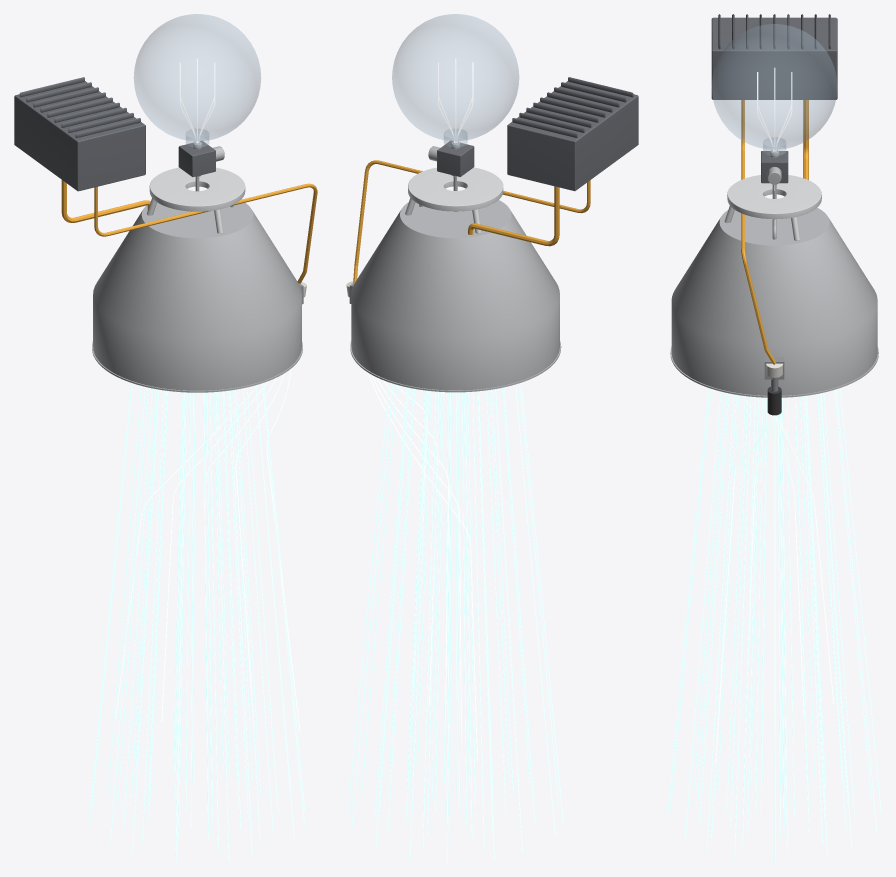
Rendered from ion_d.glb.
The picture shows the model from 3 angles, left to right: view 1: azimuth 30°, elevation 25°; view 2: azimuth 150°, elevation 25°; view 3: azimuth 270°, elevation 25°; orthographic projection.
Visible parts, largest first — view 1: IT_PlasmaScreen, IT_FLOW_IonBeam, IT_XenonTank, IT_PowerUnit, IT_Mount, IT_FLOW_Electrons, IT_Harness, IT_FlowController, IT_FrontMask; view 2: IT_PlasmaScreen, IT_FLOW_IonBeam, IT_XenonTank, IT_PowerUnit, IT_Mount, IT_FLOW_Electrons, IT_Harness, IT_FlowController, IT_FrontMask; view 3: IT_PlasmaScreen, IT_FLOW_IonBeam, IT_XenonTank, IT_PowerUnit, IT_Mount, IT_FLOW_Electrons, IT_Harness, IT_FlowController, IT_Neutralizer, IT_FrontMask, IT_FLOW_Xenon.
Part boxes in pixels (box(x1,y1,x2,y2)): IT_PlasmaScreen: box(93, 202, 301, 390); IT_FLOW_IonBeam: box(89, 383, 305, 862); IT_XenonTank: box(134, 14, 260, 147); IT_PowerUnit: box(14, 77, 145, 191); IT_Mount: box(147, 167, 245, 233); IT_FLOW_Electrons: box(115, 369, 300, 731); IT_Harness: box(61, 180, 317, 283); IT_FlowController: box(178, 141, 224, 177); IT_FrontMask: box(92, 341, 302, 392); IT_PlasmaScreen: box(351, 200, 559, 390); IT_FLOW_IonBeam: box(347, 382, 563, 862); IT_XenonTank: box(392, 14, 518, 147); IT_PowerUnit: box(507, 77, 638, 191); IT_Mount: box(405, 167, 503, 233); IT_FLOW_Electrons: box(368, 373, 477, 761); IT_Harness: box(353, 160, 590, 282); IT_FlowController: box(428, 140, 474, 176); IT_FrontMask: box(350, 341, 561, 392); IT_PlasmaScreen: box(671, 207, 877, 395); IT_FLOW_IonBeam: box(667, 388, 881, 862); IT_XenonTank: box(712, 24, 837, 155); IT_PowerUnit: box(711, 14, 837, 99); IT_Mount: box(724, 175, 821, 240); IT_FLOW_Electrons: box(715, 415, 833, 763); IT_Harness: box(741, 100, 808, 364); IT_FlowController: box(761, 149, 788, 184); IT_Neutralizer: box(764, 357, 784, 415); IT_FrontMask: box(670, 346, 878, 397); IT_FLOW_Xenon: box(757, 67, 792, 190).
Bounding box in the file's own units: 0.7538 × 2.21 × 0.5455.
